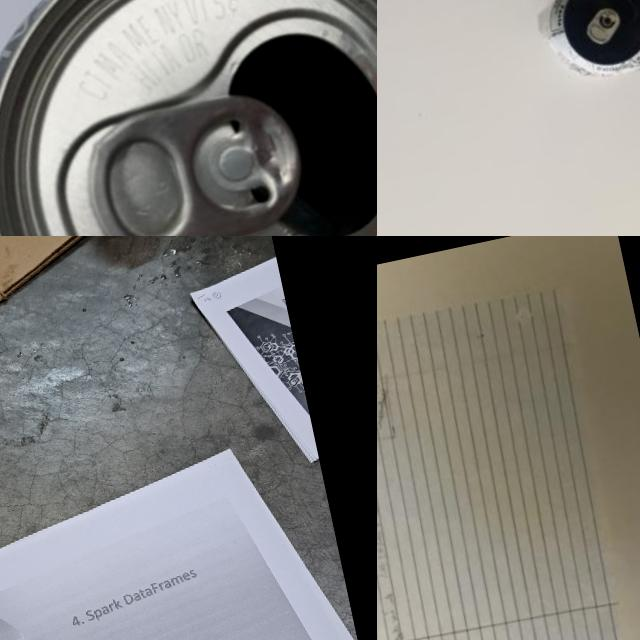aba de lata: (582, 8, 622, 48)
lata: (0, 0, 377, 236), (76, 81, 317, 236), (538, 0, 640, 90)
papel: (377, 272, 628, 640), (0, 429, 377, 640), (186, 248, 319, 482)
papelão: (0, 236, 127, 441)
